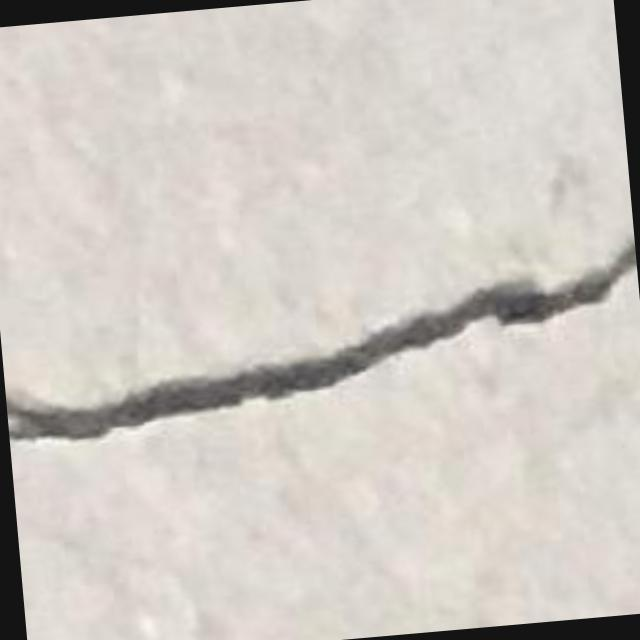crack: (6, 241, 636, 442)
